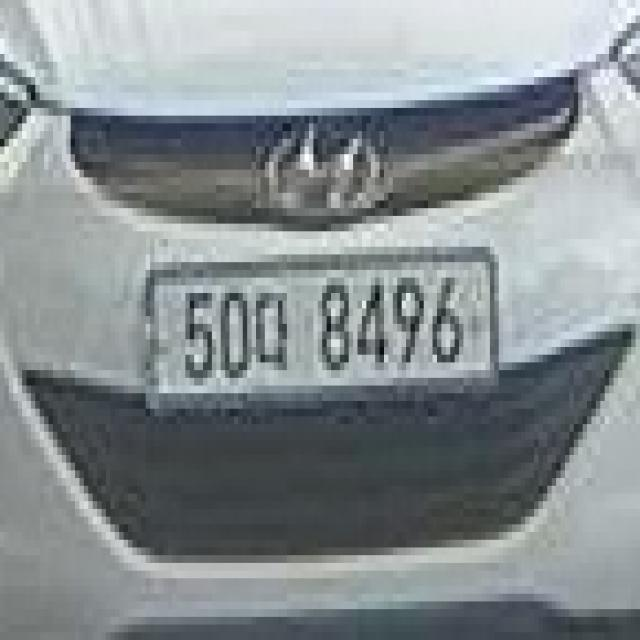0: (222, 282, 252, 386)
4: (356, 276, 392, 371)
5: (176, 284, 218, 388)
6: (431, 270, 464, 372)
8: (316, 279, 354, 378)
9: (394, 278, 426, 370)
da: (252, 290, 292, 375)
license_plate: (136, 246, 508, 403)
